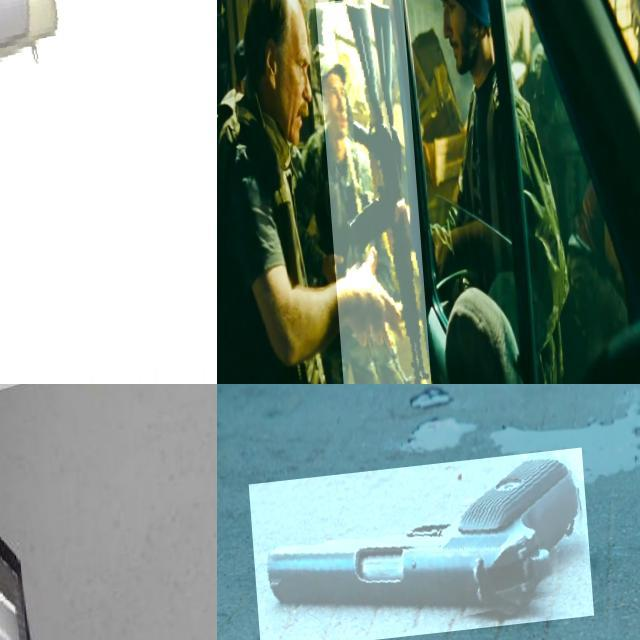gun-knife-thesis - v11 Yolov5 augmented: (0, 0, 217, 384), (244, 459, 587, 640), (315, 2, 426, 384)
